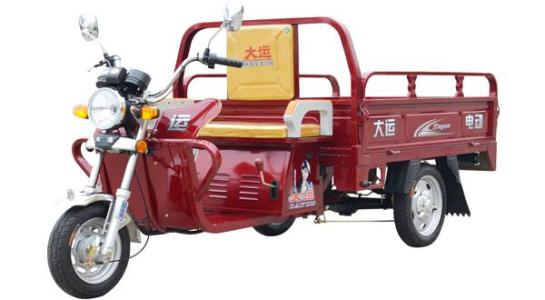tricycle: (39, 24, 506, 295)
